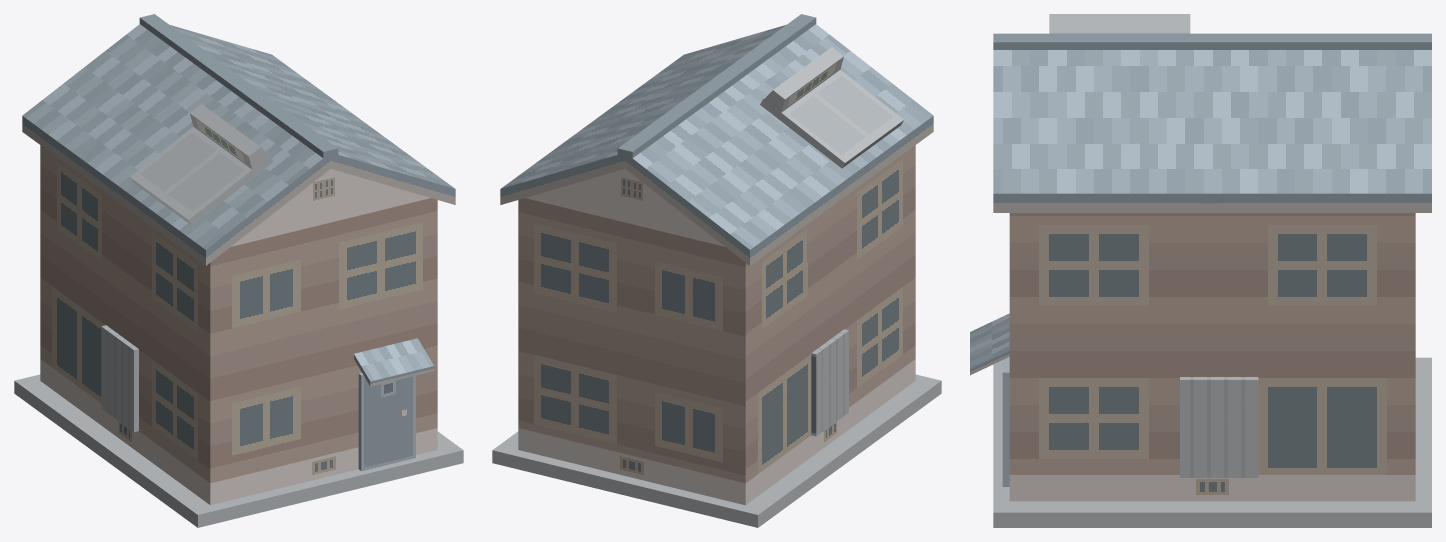
The model's file is 035e_Doi_Residence.glb.
The picture shows the model from 3 angles, left to right: view 1: azimuth 30°, elevation 25°; view 2: azimuth 150°, elevation 25°; view 3: azimuth 270°, elevation 25°; orthographic projection. The views are drawn at different scales.
Visible parts, largest first — view 1: part_0; view 2: part_0; view 3: part_0.
Part boxes in pixels (x1,y1,x2,y2): part_0: [14, 14, 463, 527]; part_0: [492, 14, 941, 527]; part_0: [970, 14, 1431, 527].
Size of the model in its own units: 5.38 by 6.68 by 6.77.
Materials: 1 (1 with a texture image).
